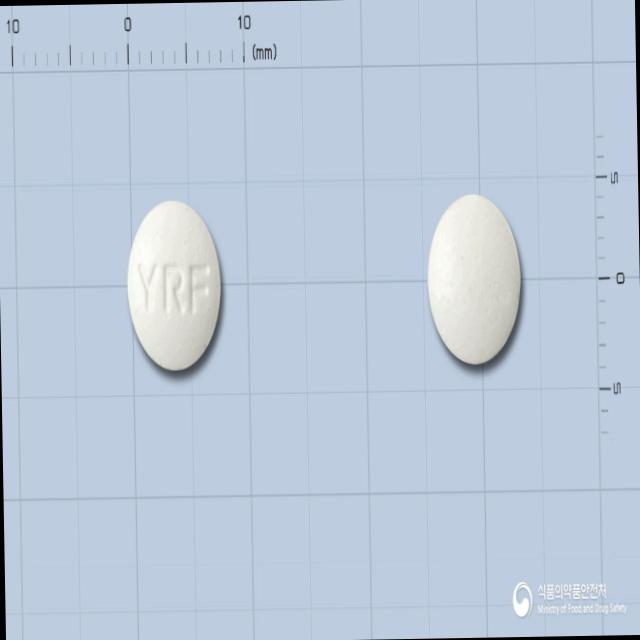Leprosin: (125, 199, 224, 374)
